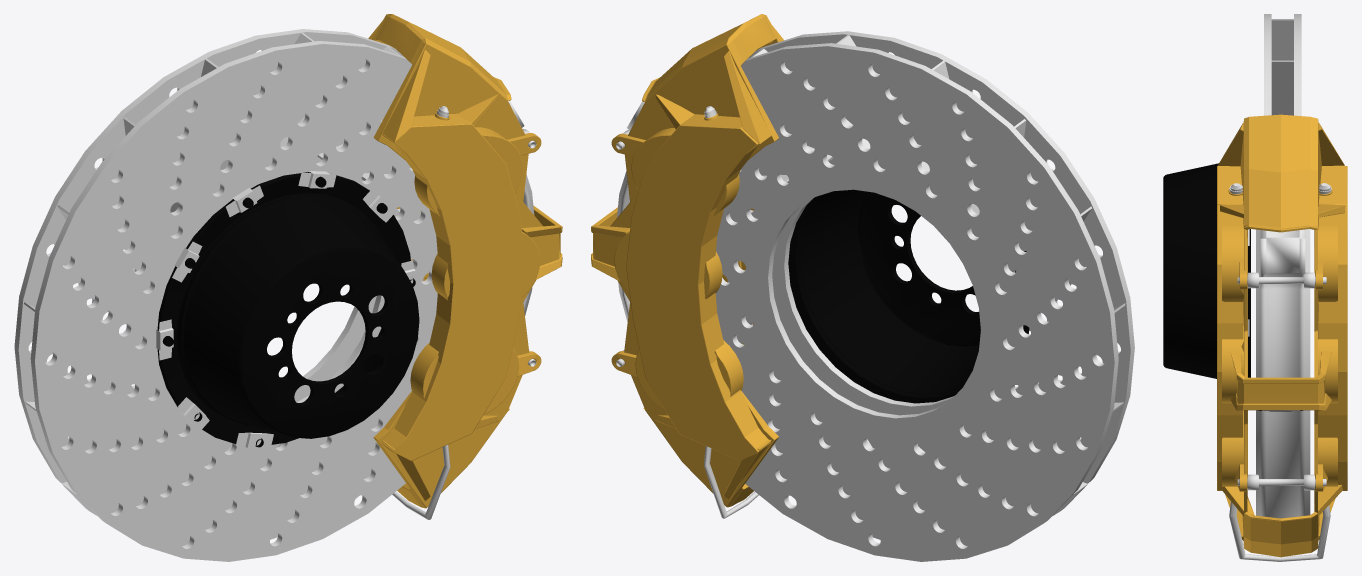
The model's file is diskbrake.glb.
3 renders of one model, left to right at view 1: azimuth 30°, elevation 25°; view 2: azimuth 150°, elevation 25°; view 3: azimuth 270°, elevation 25°, orthographic. The views are drawn at different scales.
Visible parts, largest first — view 1: disc brake; view 2: disc brake; view 3: disc brake.
Boxes of the visible parts, x1,y1,x2,y2 form: disc brake: [14, 14, 562, 561]; disc brake: [591, 14, 1134, 561]; disc brake: [1163, 14, 1347, 561].
Bounding box in the file's own units: 0.2063 × 0.1927 × 0.0689.
